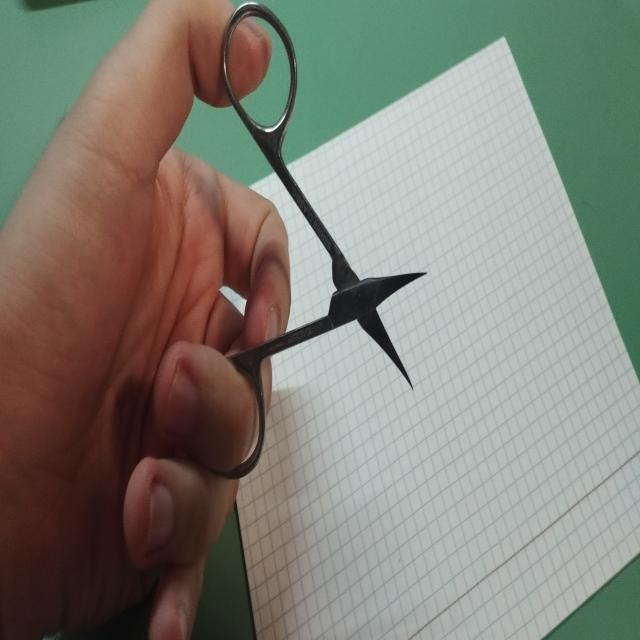tesoura: (189, 4, 430, 482)
